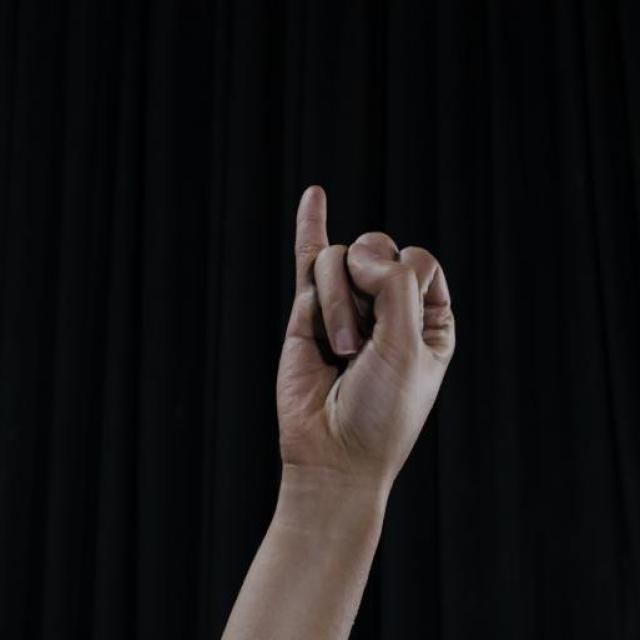I: (209, 149, 528, 640)
